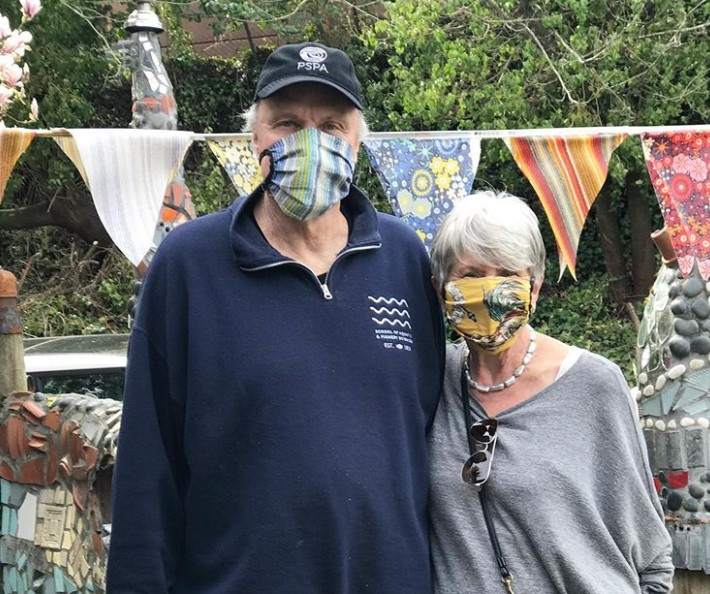face_with_mask: (247, 47, 365, 224), (430, 190, 547, 357)
